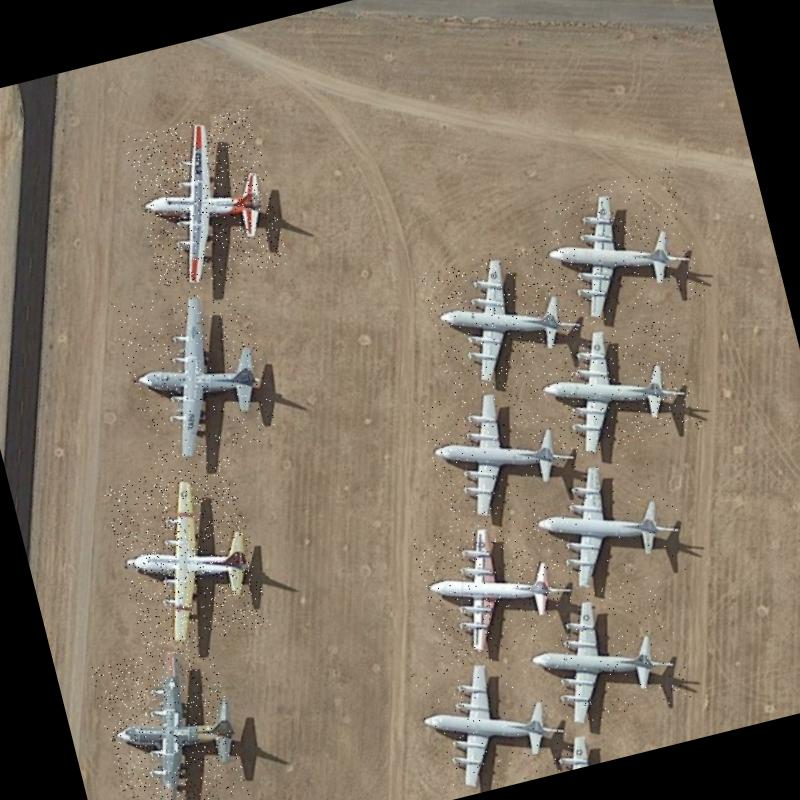A2: (110, 269, 280, 469), (102, 454, 270, 656), (123, 106, 288, 294), (89, 637, 249, 800)
A9: (514, 576, 693, 734), (420, 234, 594, 396), (524, 308, 702, 465), (536, 165, 706, 329), (412, 504, 582, 667), (410, 638, 578, 800), (524, 444, 695, 602), (418, 371, 584, 530)
